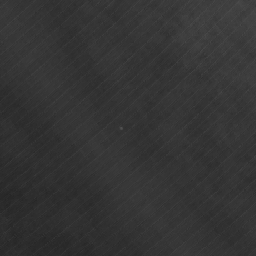Target: (118, 126, 126, 133)
